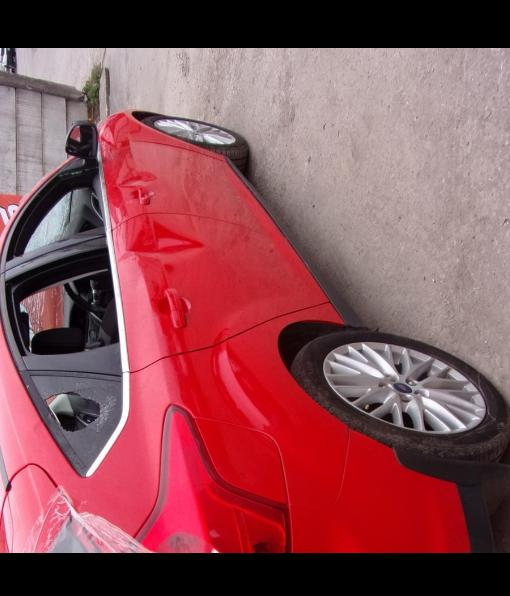Broken part: (17, 370, 130, 476), (41, 509, 113, 553)
Dent: (126, 211, 210, 264), (116, 169, 159, 188), (117, 250, 137, 261)
Missing part: (4, 247, 119, 355), (6, 163, 105, 261)
